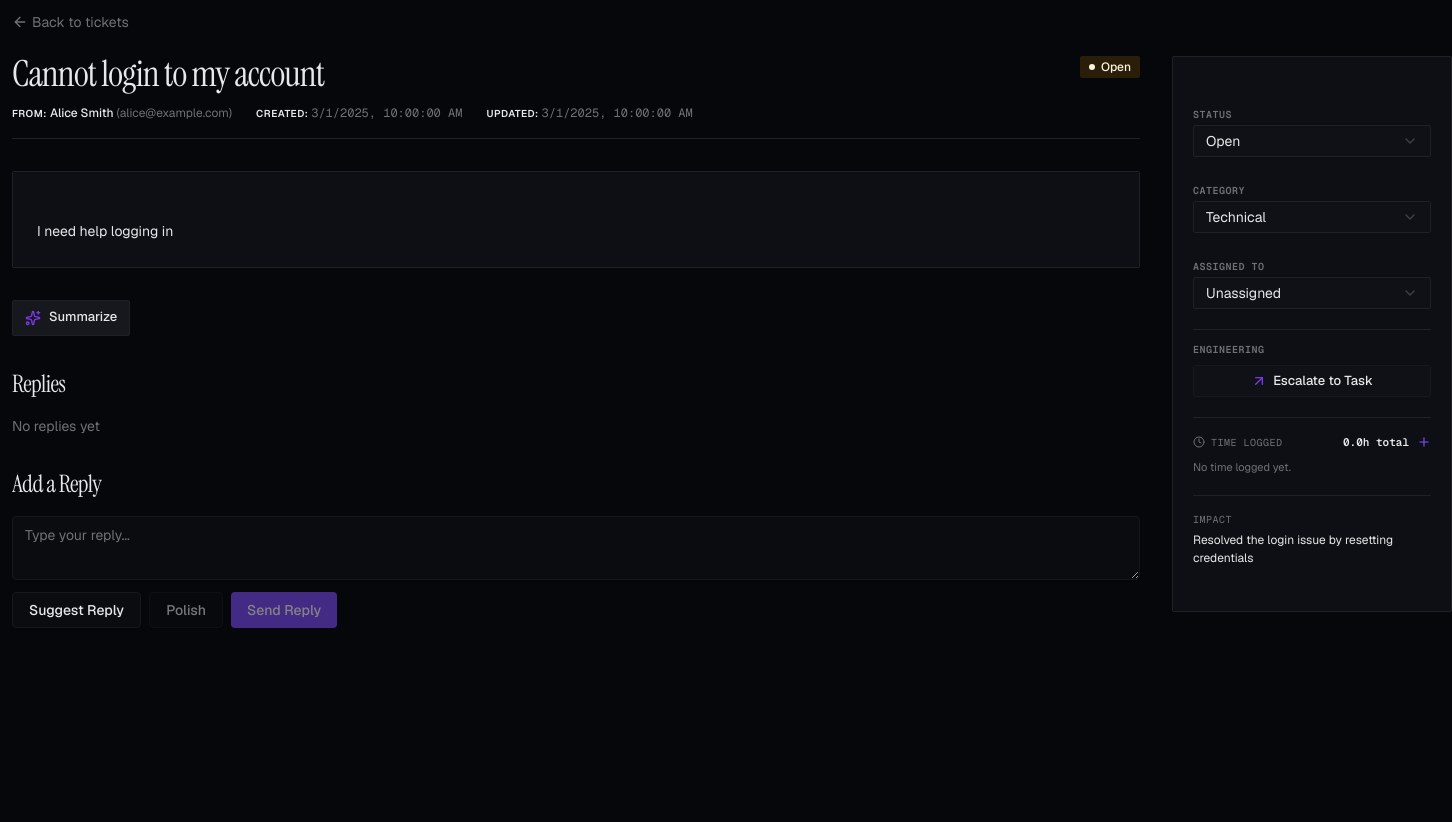
Test case: TicketDetailPage › should display current status and all status options in dropdown
Check: the heading "Cannot login to my account" is shown, box [12,50,324,97]
Click the dropdown labelled "Open": (1312, 141) [1193,125,1431,157]
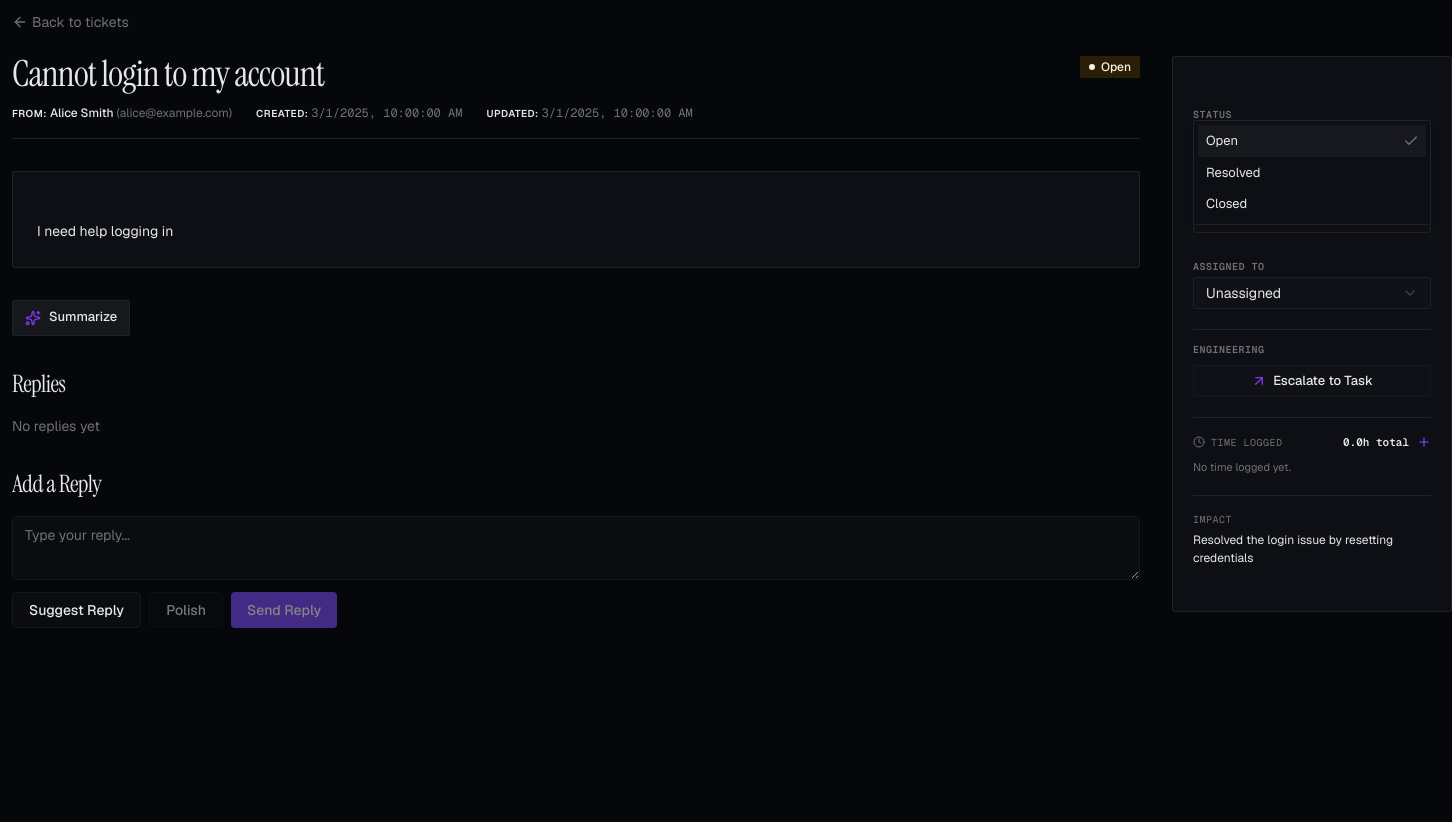
Check: the option "Open" is shown, box [1198,125,1426,156]
Check: the option "Resolved" is shown, box [1206,164,1260,180]
Check: the option "Closed" is shown, box [1206,195,1247,212]
